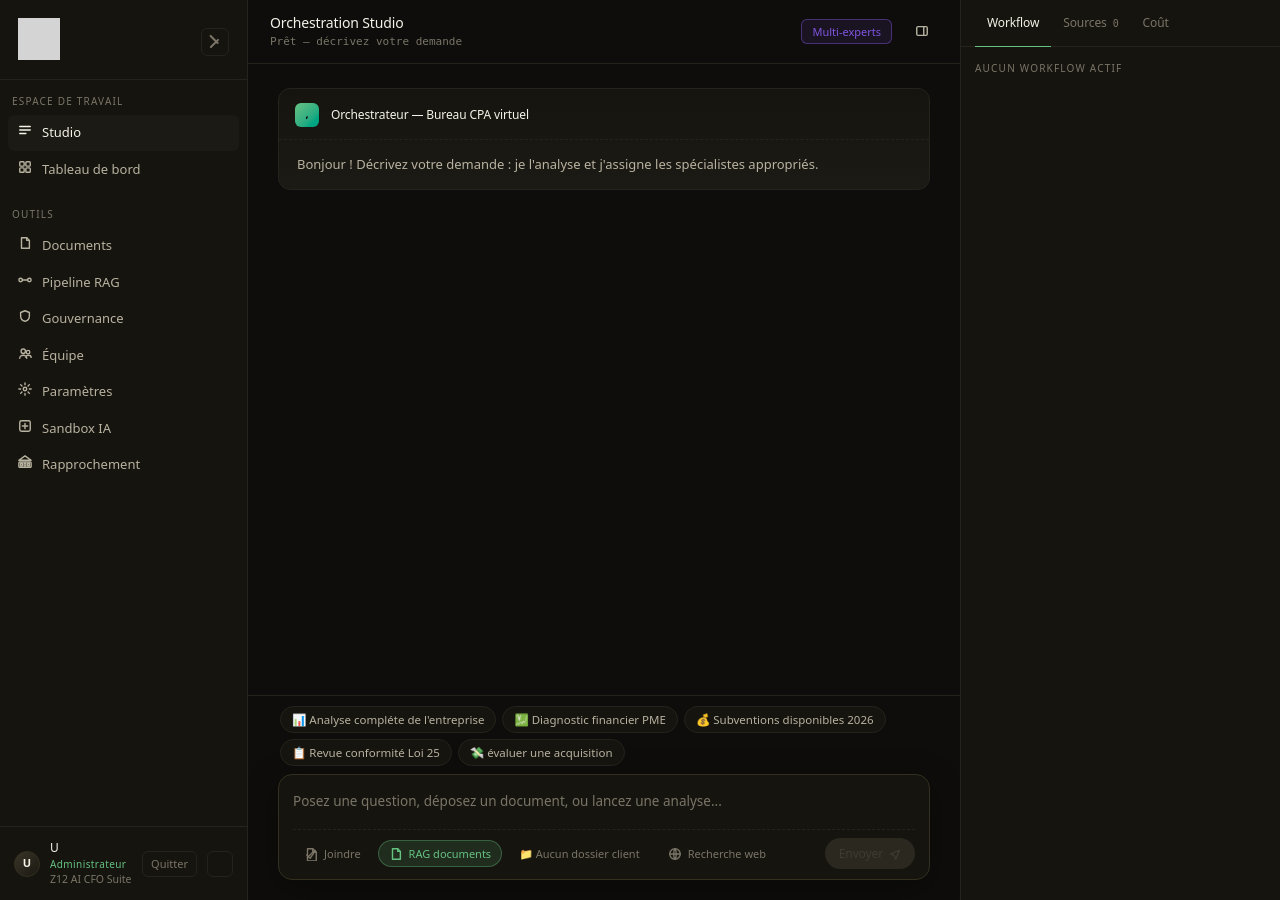
settings view › does not show the administrator a personal usage tab
Click the element showing "Paramètres".
click(65, 391)  # box [18,382,112,400]
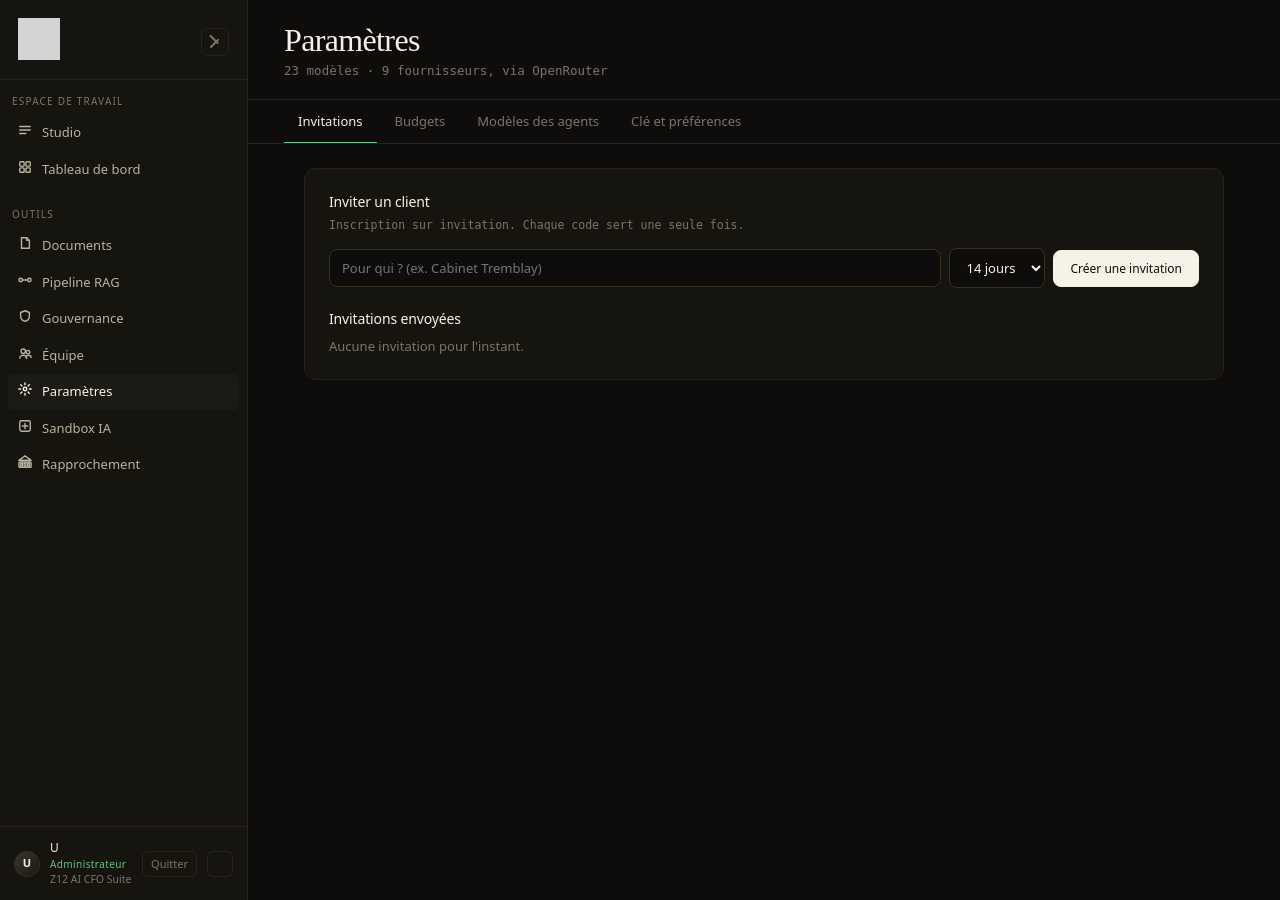
Expected: the element with test id "invitations-panel" is shown, [304,168,1224,380]
